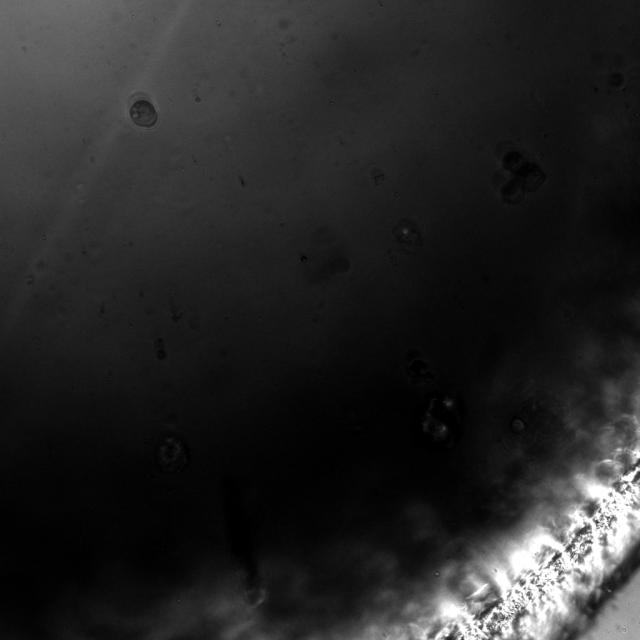organoid: (414, 391, 464, 451), (499, 149, 546, 205), (129, 98, 158, 130)
